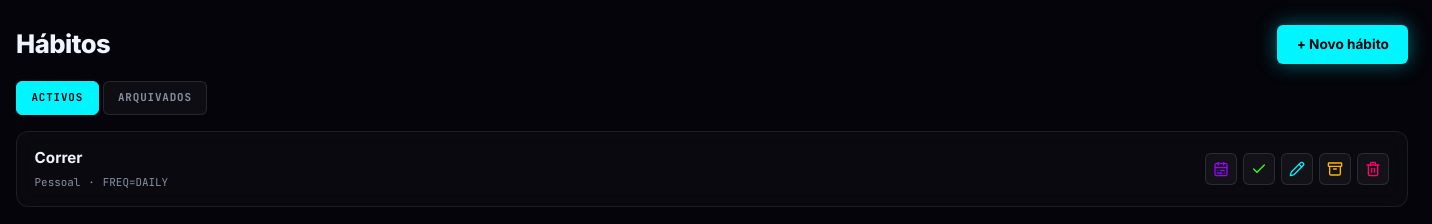
Scenario: HabitosPage (Story 4.2 / AC9) › C3 — tab Arquivados: mostra só arquivados, sem "Marcar concluído" nem "+ Novo hábito"
The width and height of the screenshot is (1432, 224).
Click the tab "Arquivados": click(155, 98) [103, 81, 207, 115]
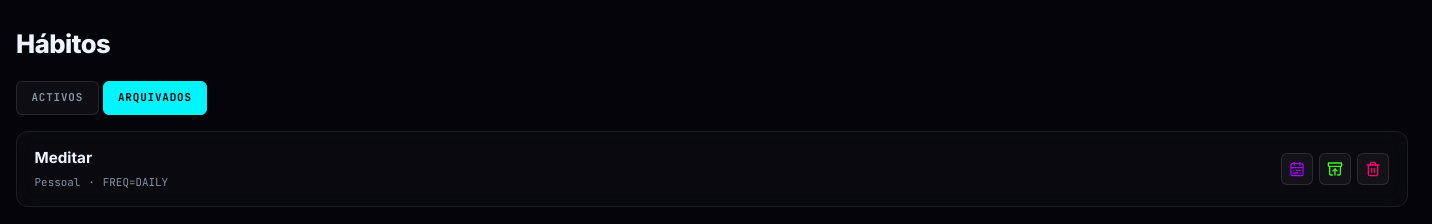
Check: the text "Meditar" is shown, box [35, 148, 92, 167]
Check: the text "Correr" is gone
Check: the button named "Restaurar \"Meditar\"" is shown, box [1319, 153, 1351, 185]
